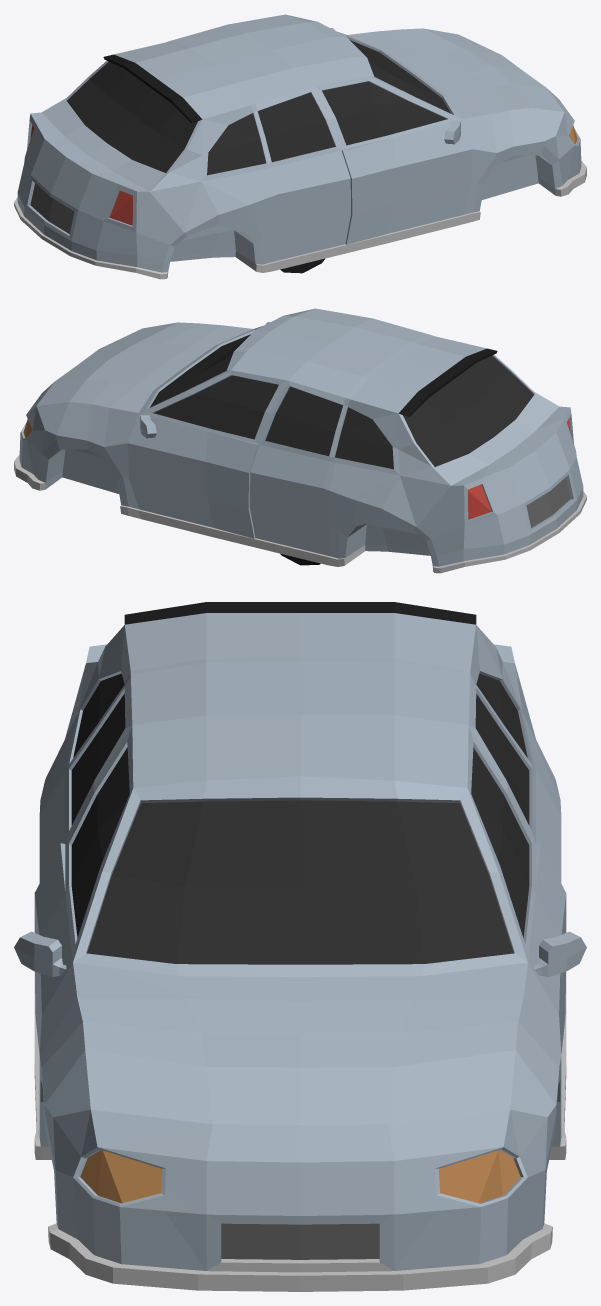
File: hatch.glb
3 views of the same model, one above another, from view 1: azimuth 30°, elevation 25°; view 2: azimuth 150°, elevation 25°; view 3: azimuth 270°, elevation 25° (orthographic). The views are drawn at different scales.
Visible parts, largest first — view 1: hatch_Body, hatch_Glass, hatch_Trim, hatch_Tail; view 2: hatch_Body, hatch_Glass, hatch_Trim, hatch_Tail; view 3: hatch_Body, hatch_Glass, hatch_Trim, hatch_Head.
Boxes of the visible parts, left/top/right/bottom form: hatch_Body: left=14, top=14, right=586, bottom=279; hatch_Glass: left=67, top=40, right=451, bottom=175; hatch_Trim: left=30, top=54, right=202, bottom=233; hatch_Tail: left=30, top=125, right=132, bottom=225; hatch_Body: left=14, top=308, right=586, bottom=573; hatch_Glass: left=149, top=334, right=533, bottom=469; hatch_Trim: left=398, top=348, right=570, bottom=527; hatch_Tail: left=468, top=419, right=570, bottom=519; hatch_Body: left=14, top=613, right=586, bottom=1291; hatch_Glass: left=71, top=673, right=529, bottom=964; hatch_Trim: left=124, top=602, right=476, bottom=1259; hatch_Head: left=80, top=1150, right=520, bottom=1203.
Size of the model in its own units: 3.62 by 1.53 by 1.79.
